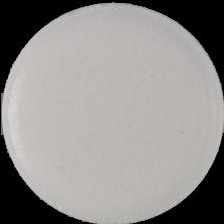53808-1030: (0, 0, 224, 224)
